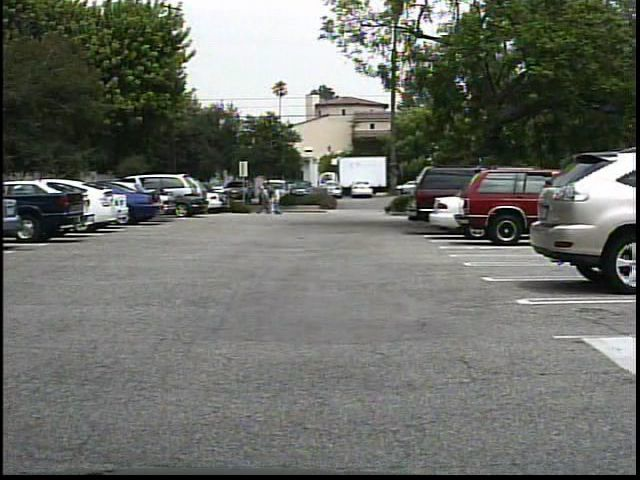person: (257, 186, 272, 217), (273, 186, 286, 218), (267, 185, 280, 216)
